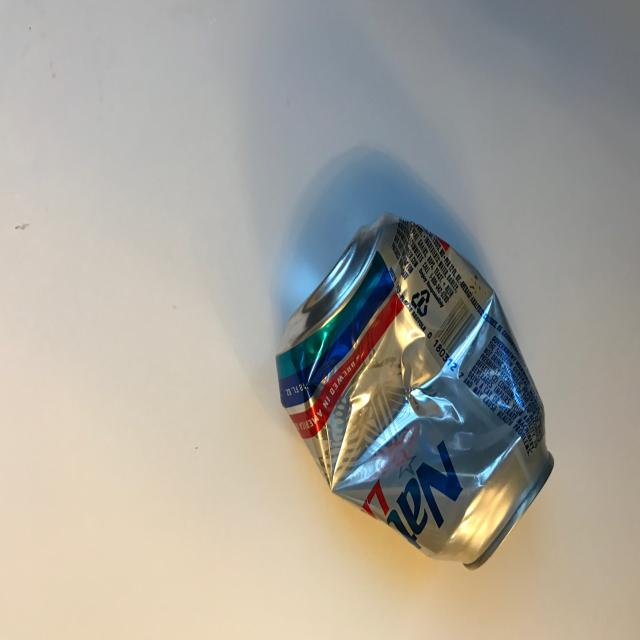metal: (274, 211, 554, 568)
